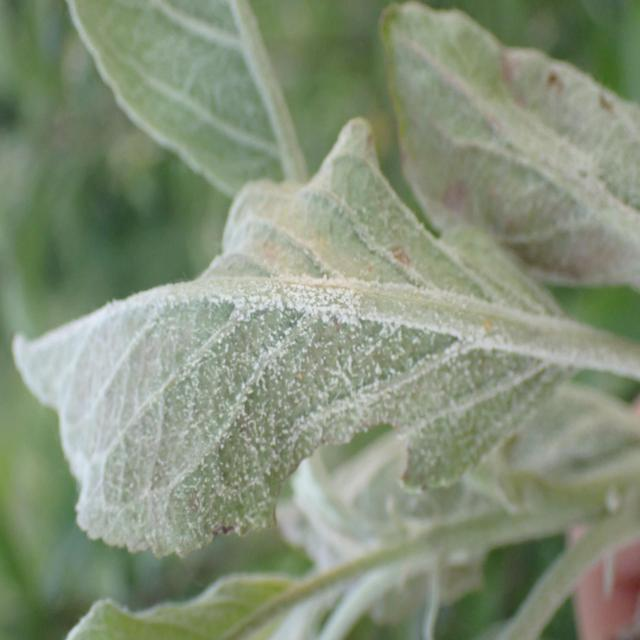Powdery_mildew: (0, 115, 578, 579), (376, 0, 640, 343), (67, 0, 312, 183), (49, 571, 495, 640)
